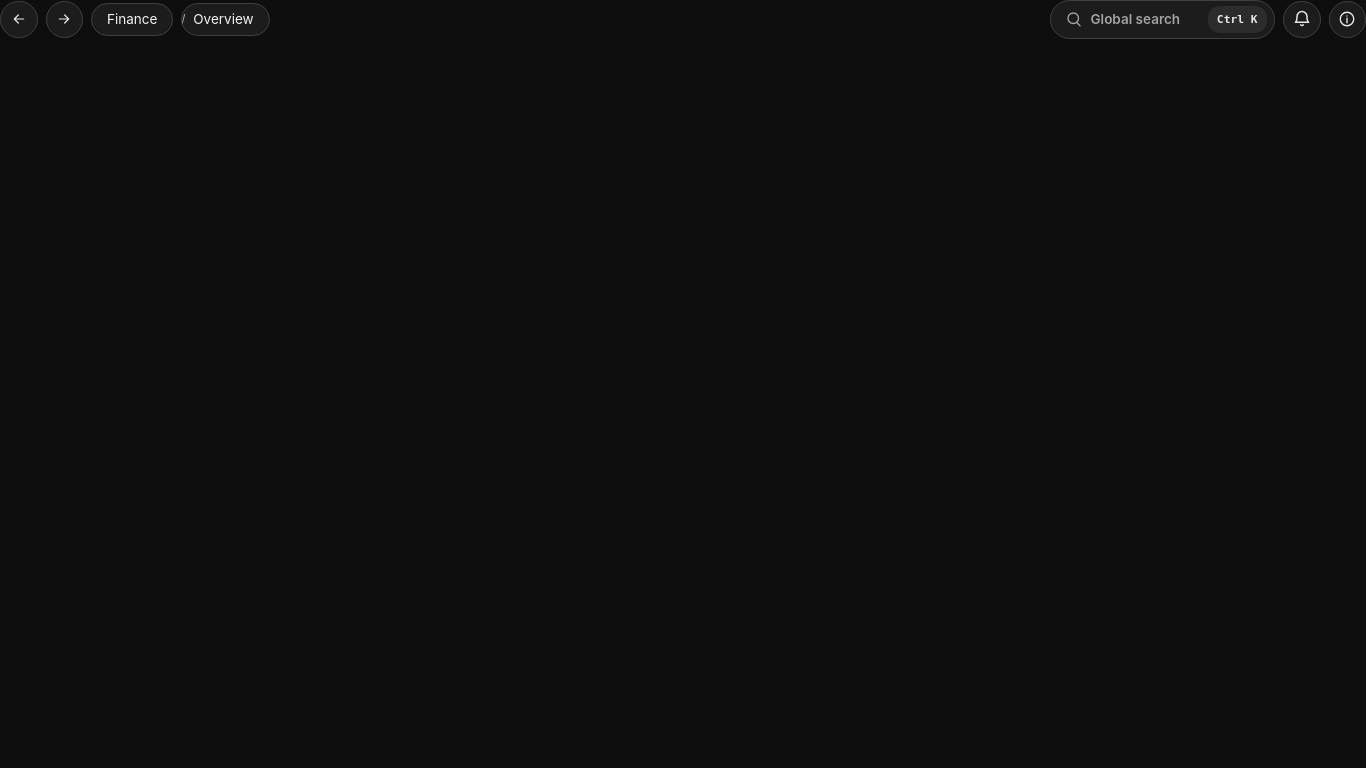
Scenario: quick search and add expense › offers only what a restricted role can open, and says so when nothing matches
Click the button with aria-label "Search and quick actions" at {"x": 1162, "y": 19}, box [1050,0,1275,39]
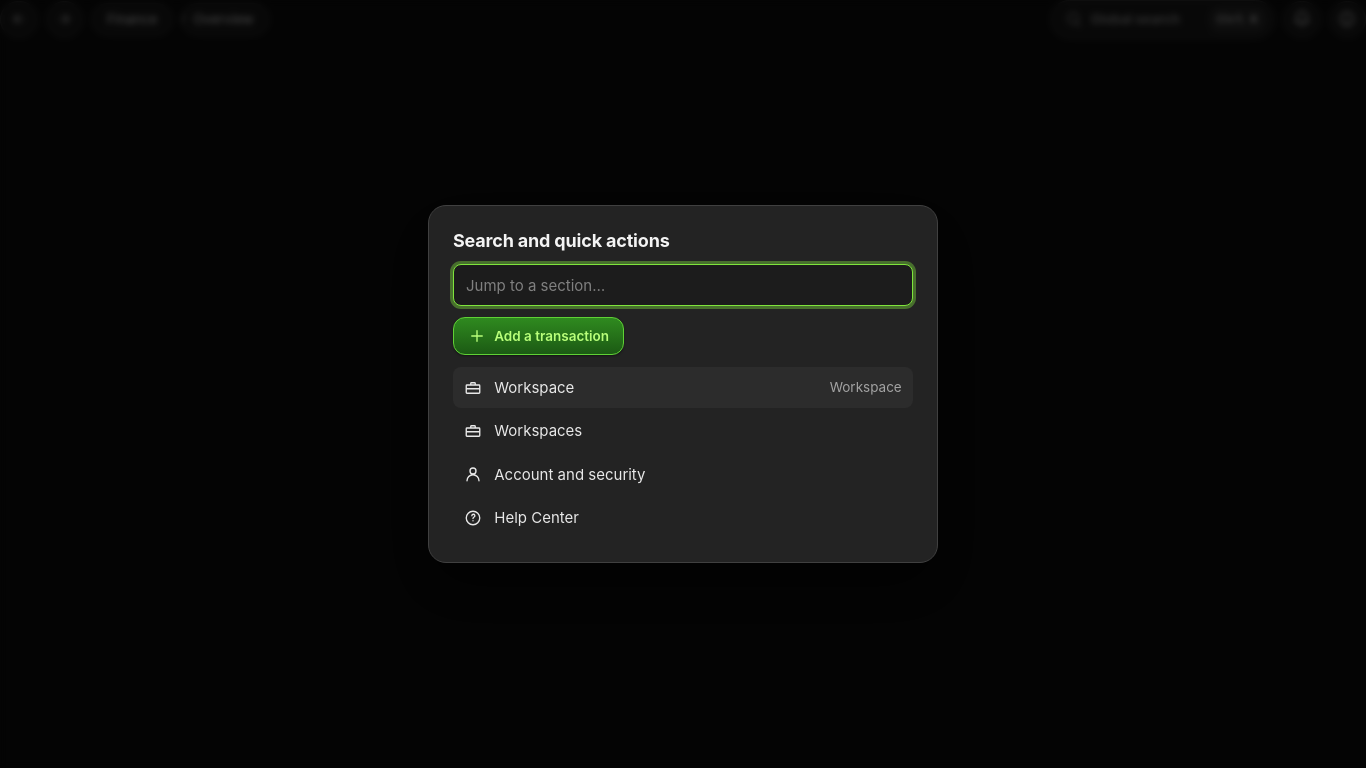
Result: the option "Workspace Workspace" is shown at [453,367,913,408]
Type "zzzz" into the dropdown at {"x": 683, "y": 285}, box [453,264,913,306]
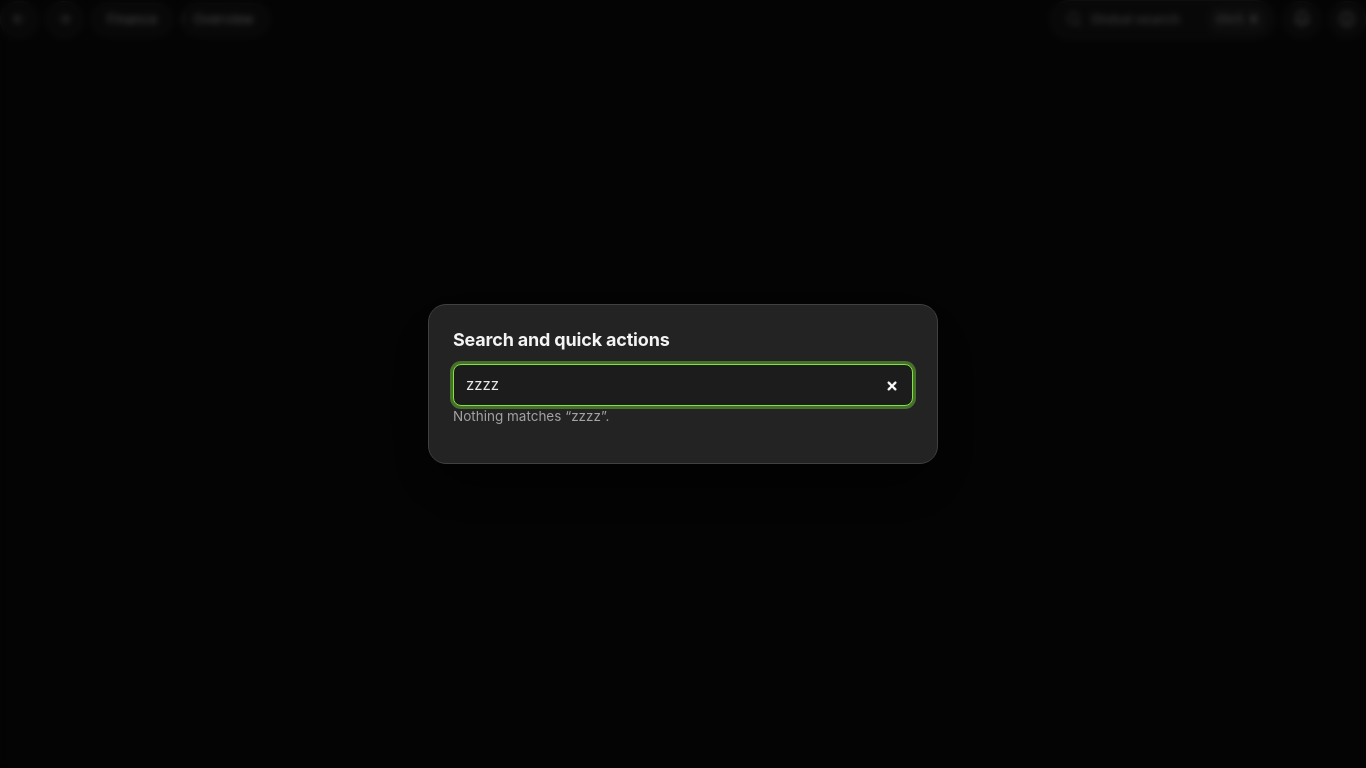
Result: the text "Nothing matches “zzzz”." is shown at [453,408,610,424]
